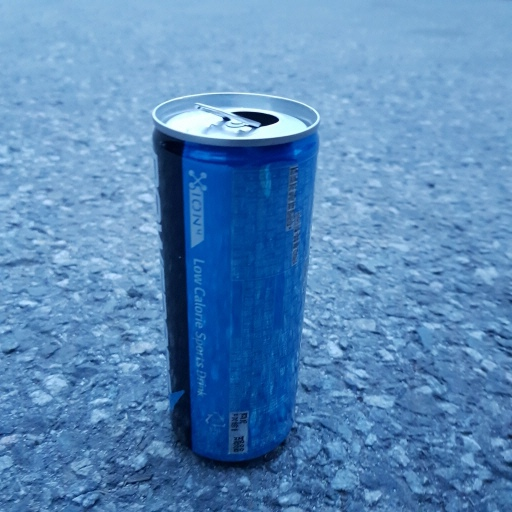Metal_0: (149, 89, 323, 467)
